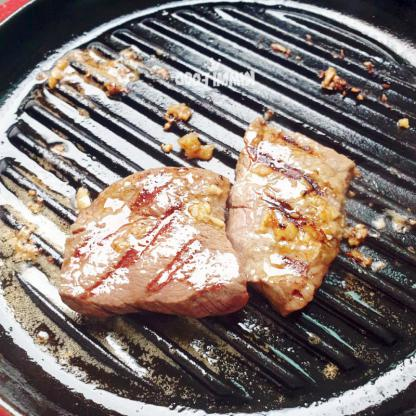Carne: (46, 160, 251, 321), (227, 112, 362, 309)
